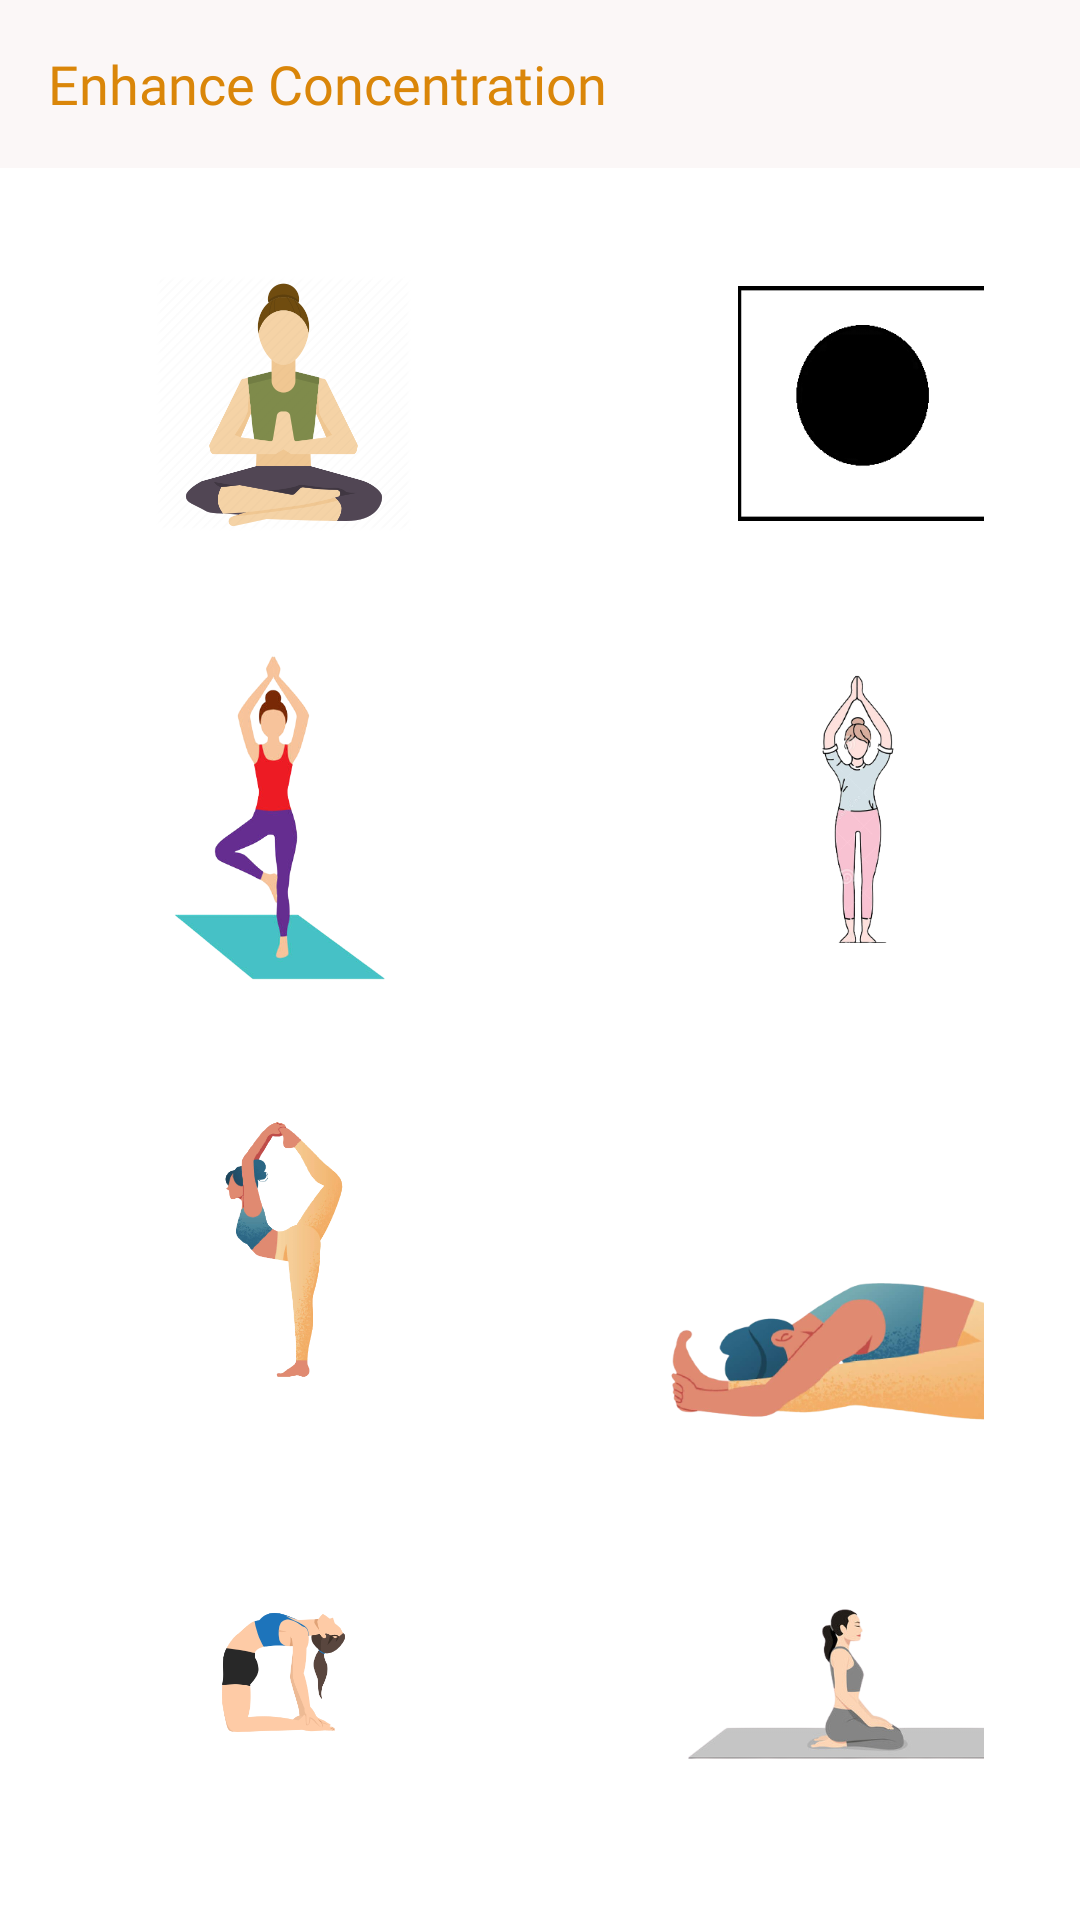

Icon click points for this 1080x1920 phone screenshot, format (x=x, y=y):
natrajsana: (x=284, y=1249)
vrik: (x=280, y=817)
